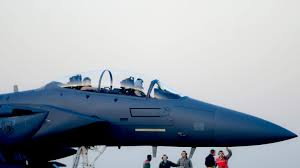fighter: (1, 64, 297, 168)
